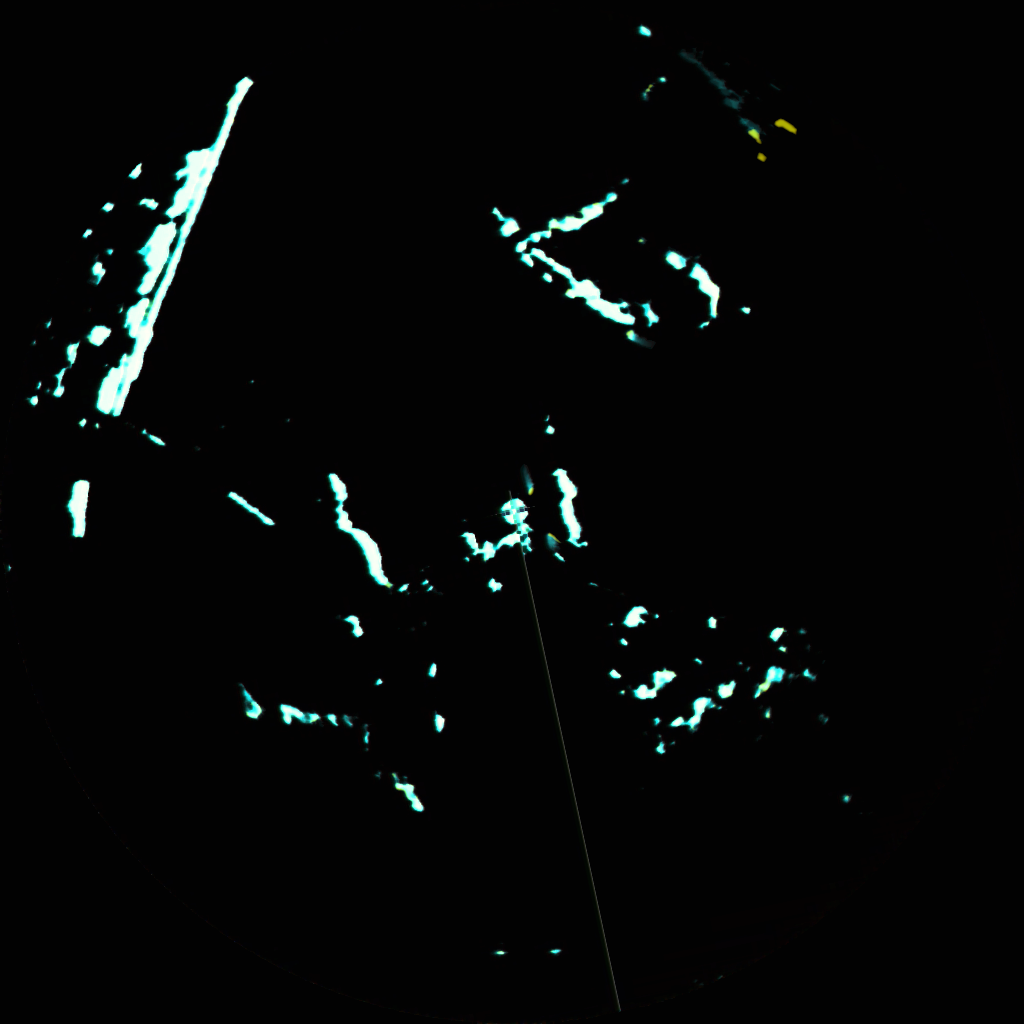B: (628, 333, 650, 351), (522, 472, 534, 489), (545, 533, 562, 545)
